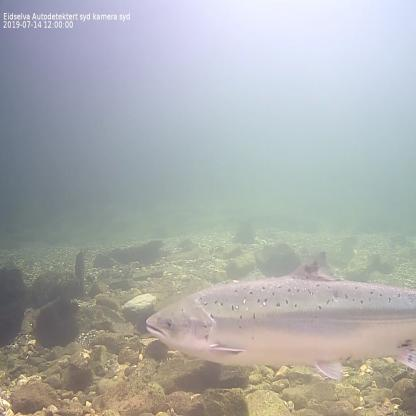salmon: (144, 246, 415, 381)
